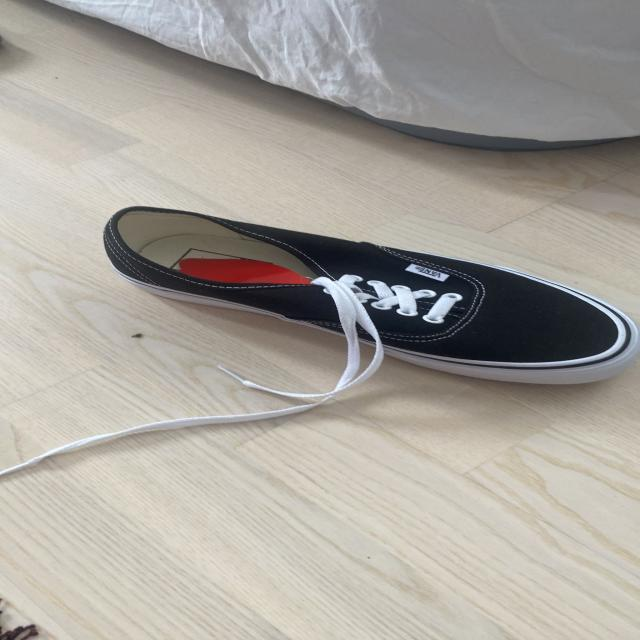shoes: (99, 204, 640, 388)
